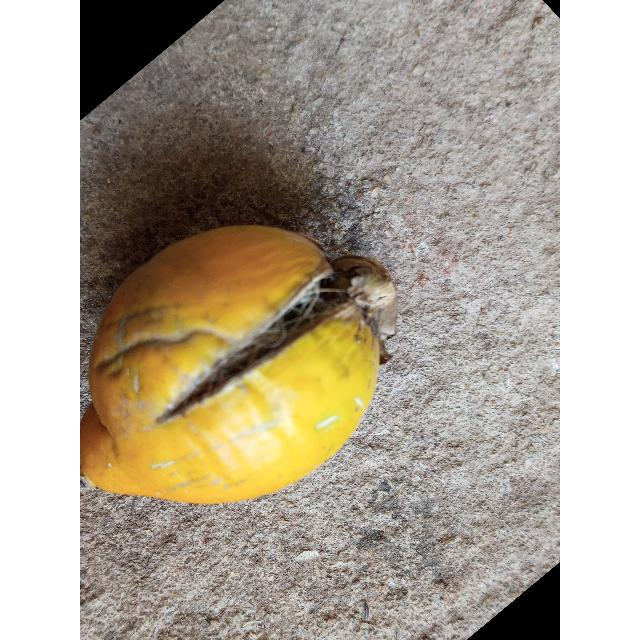damaged: (80, 226, 397, 503)
